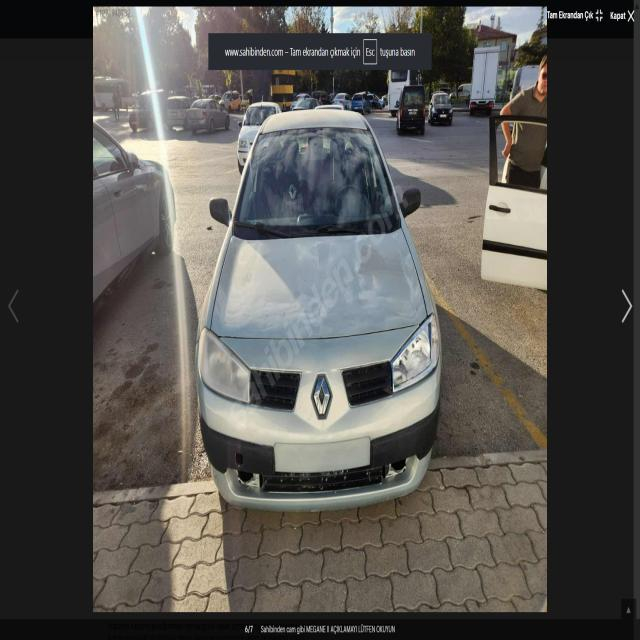renault: (309, 370, 334, 420)
